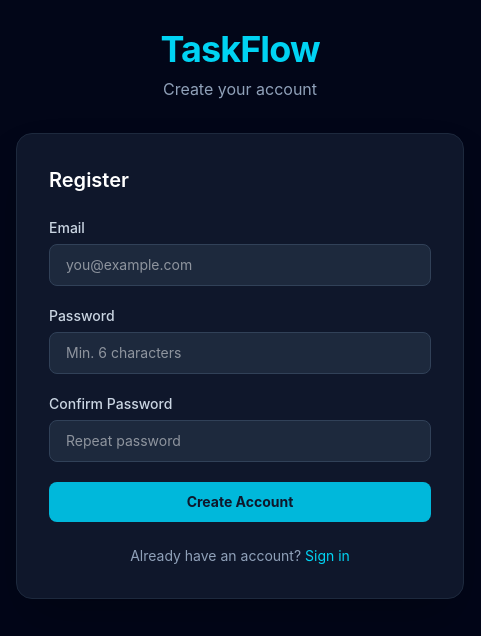
it: Register Component › 3. shows error when passwords do not match
Step 1. Type "password123" into the password field with placeholder "Min. 6 characters" → (240, 353), box left=49, top=332, right=431, bottom=374
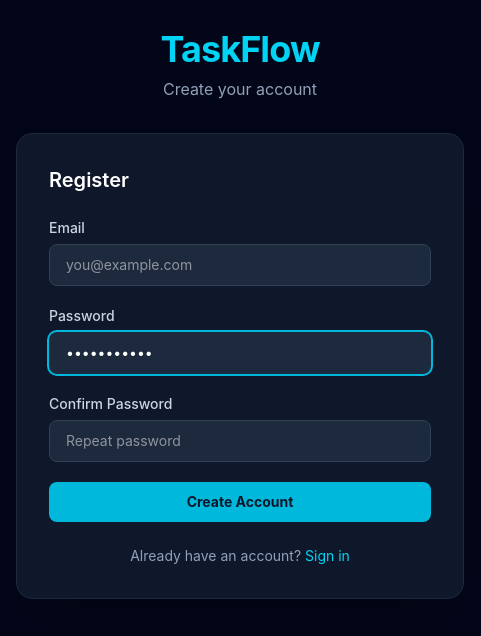
Step 2. Type "different123" into the password field with placeholder "Repeat password" → (240, 441), box left=49, top=420, right=431, bottom=462
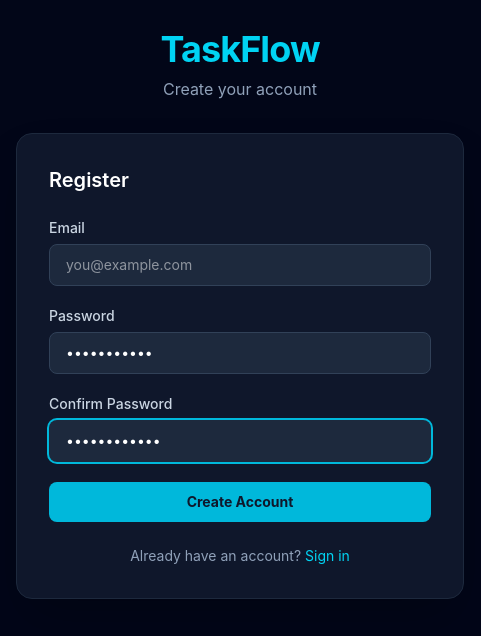
Step 3. Click the button "Create Account" → (240, 502), box left=49, top=482, right=431, bottom=522
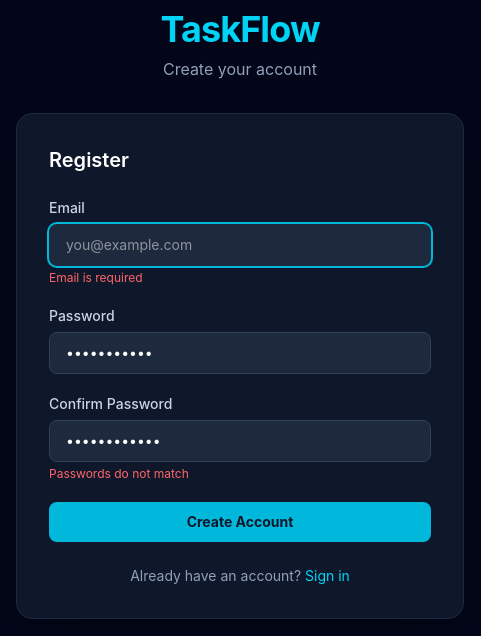
Check: the text "Passwords do not match" is shown, box left=49, top=466, right=189, bottom=481
